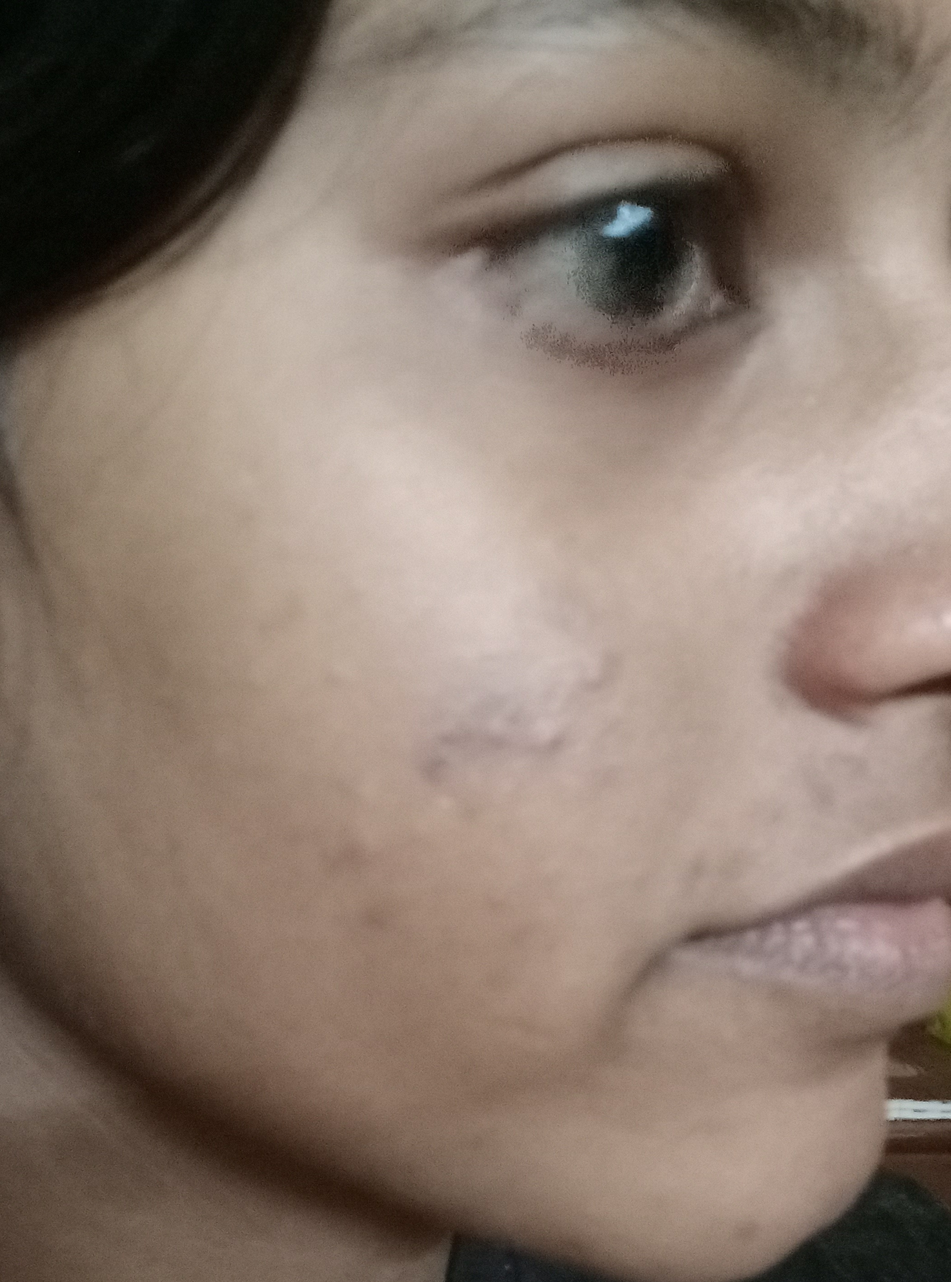papule: (519, 703, 584, 792), (333, 826, 421, 887), (299, 644, 379, 710), (409, 733, 491, 796), (785, 758, 853, 832), (553, 653, 650, 699), (718, 1205, 758, 1253)
